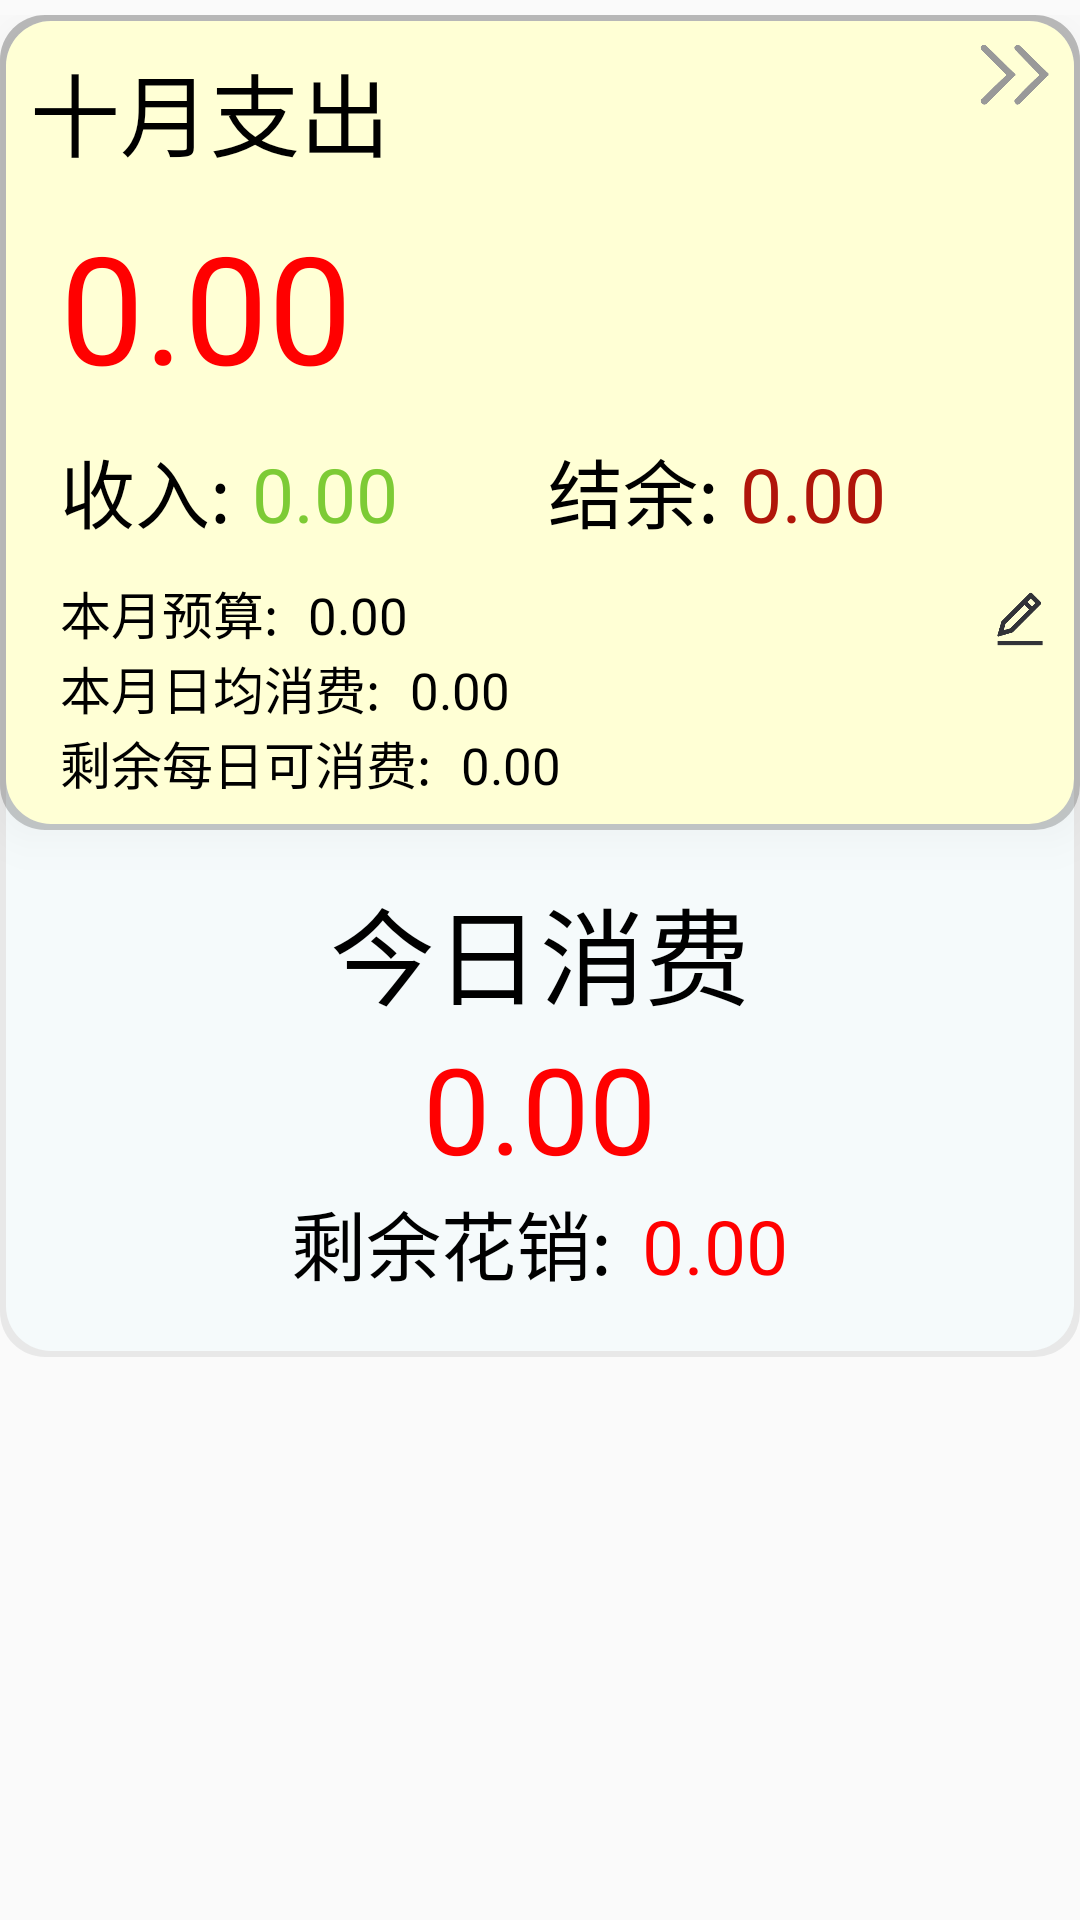

Icon bounding boxes for this 1080×1920 phone screenshot, format bbox=[x1, y1, x2, y2]:
editor: bbox=[997, 593, 1043, 646]
mon more: bbox=[981, 45, 1049, 105]
